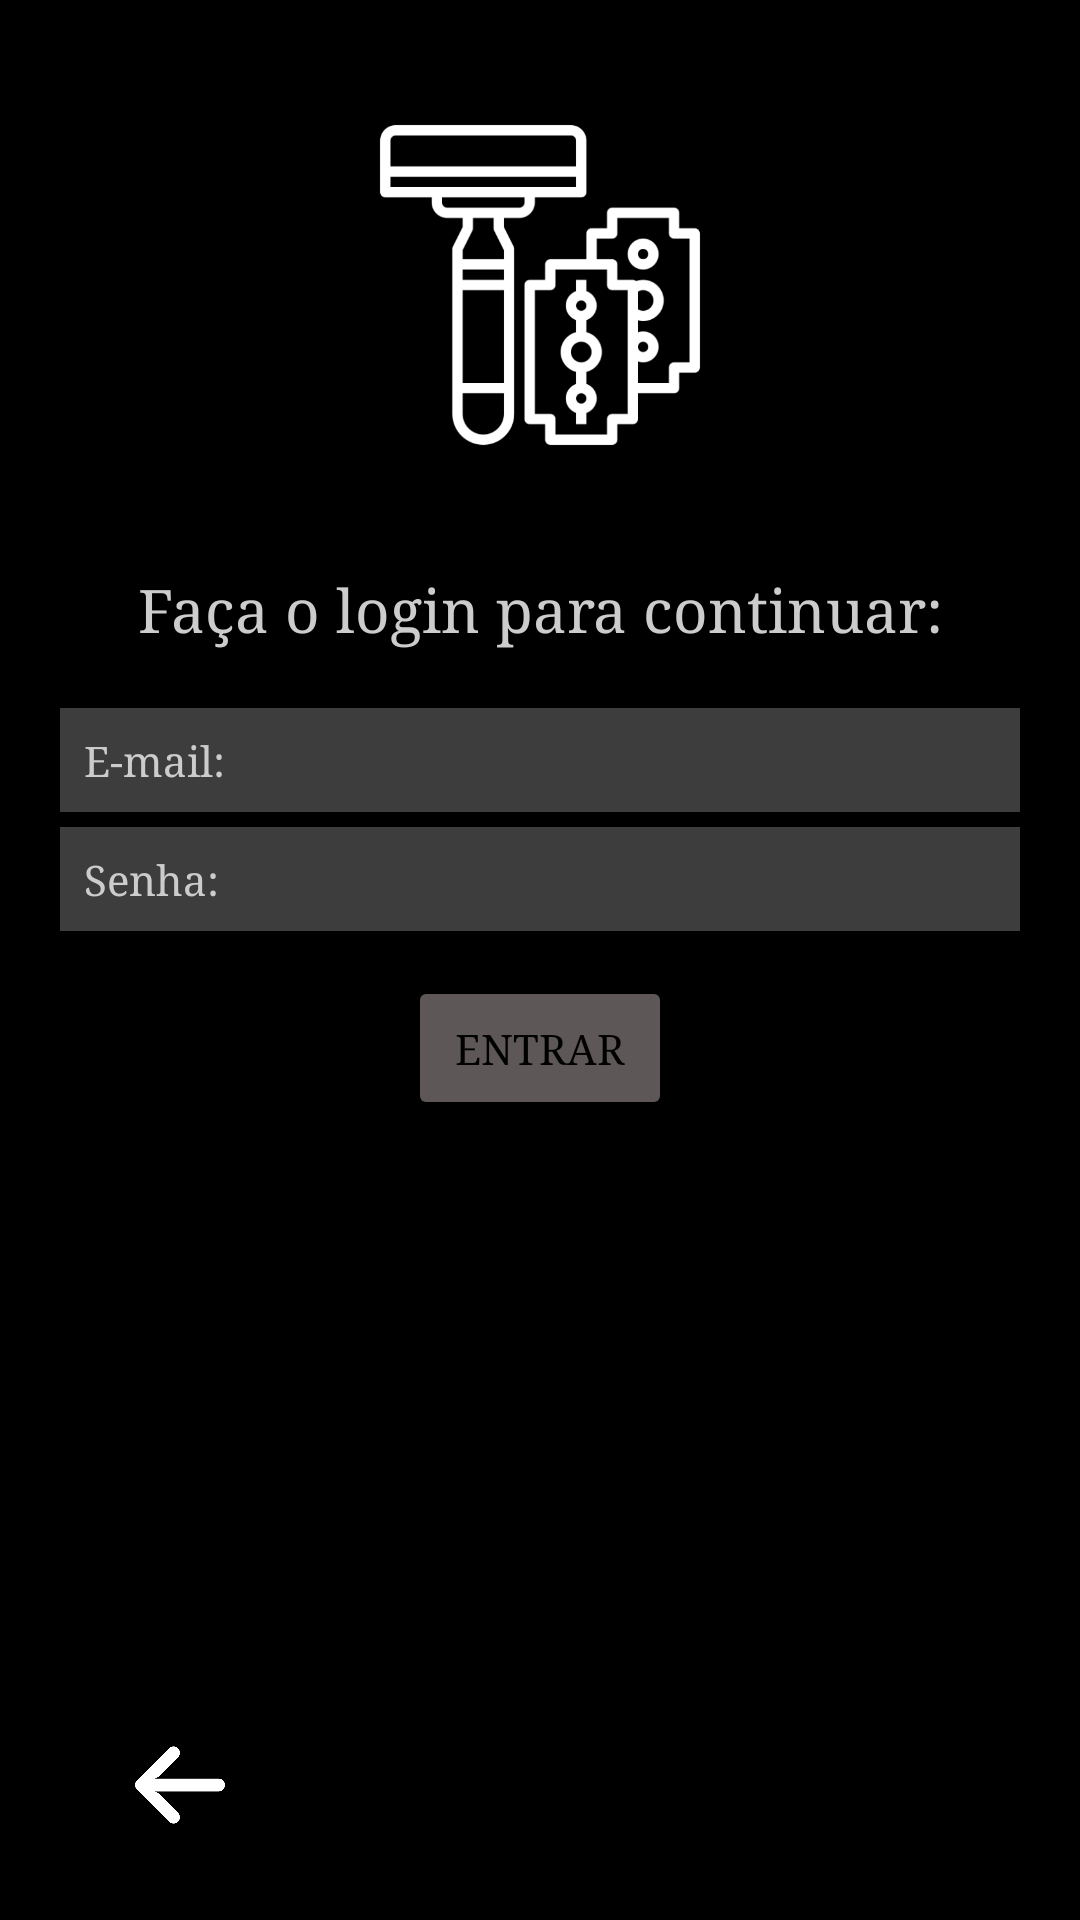

Icons on this 1080px x 1920px Android screen, each with its box as detection(x1, y1, x2, y2):
navalha: detection(380, 125, 700, 445)
voltar: detection(135, 1746, 225, 1824)
